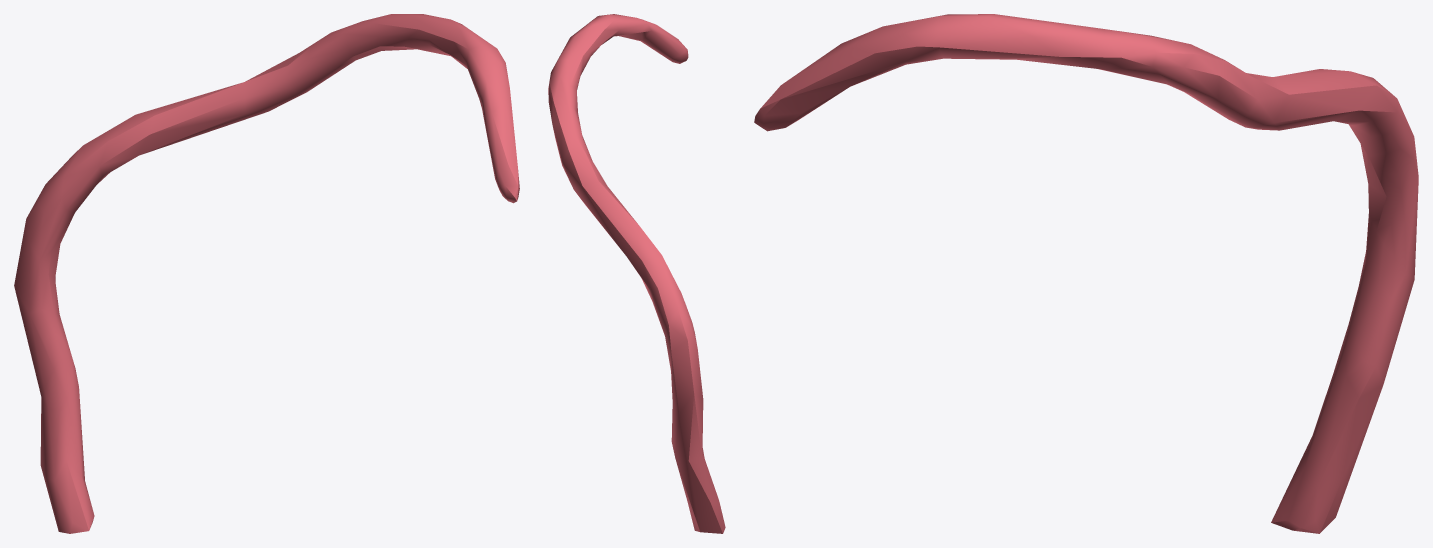
File: fma14784_fj3557.glb
The picture shows the model from 3 angles, left to right: view 1: azimuth 30°, elevation 25°; view 2: azimuth 150°, elevation 25°; view 3: azimuth 270°, elevation 25°; orthographic projection. The views are drawn at different scales.
Parts seen in each view (by area): view 1: FMA14784_FJ3557; view 2: FMA14784_FJ3557; view 3: FMA14784_FJ3557.
Boxes of the visible parts, x1,y1,x2,y2 form: FMA14784_FJ3557: [14, 14, 519, 533]; FMA14784_FJ3557: [548, 14, 725, 533]; FMA14784_FJ3557: [754, 14, 1418, 533].
Size of the model in its own units: 0.0212 by 0.034 by 0.0297.
